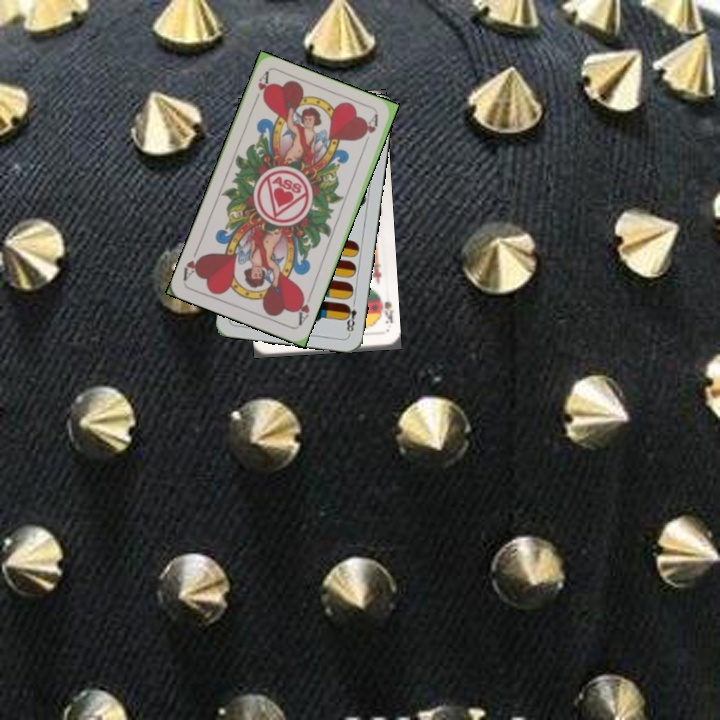E8: (341, 296, 359, 337)
HA: (292, 288, 315, 328), (249, 69, 272, 108)
SK: (375, 293, 395, 326)
